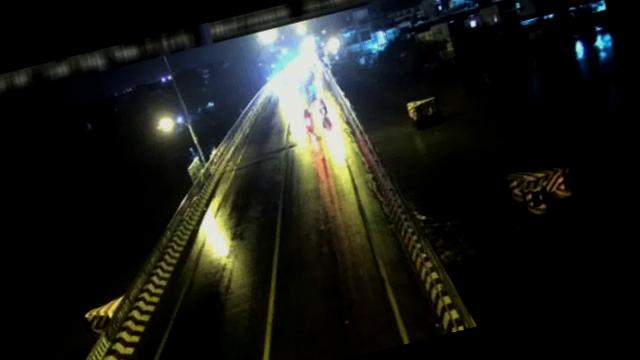Bike: (300, 106, 321, 135), (314, 96, 332, 122)
